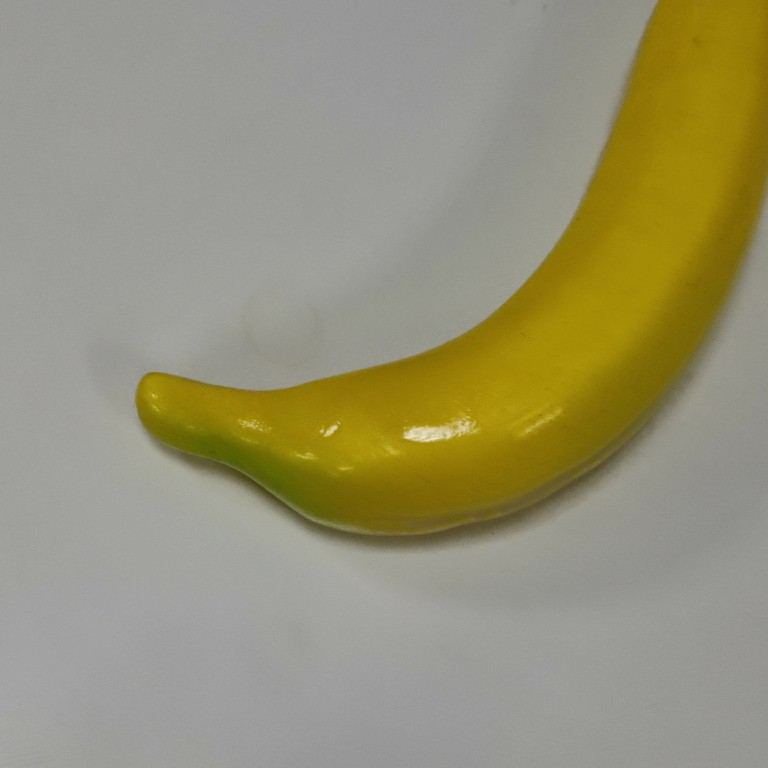fruit_banana: (127, 1, 768, 543)
